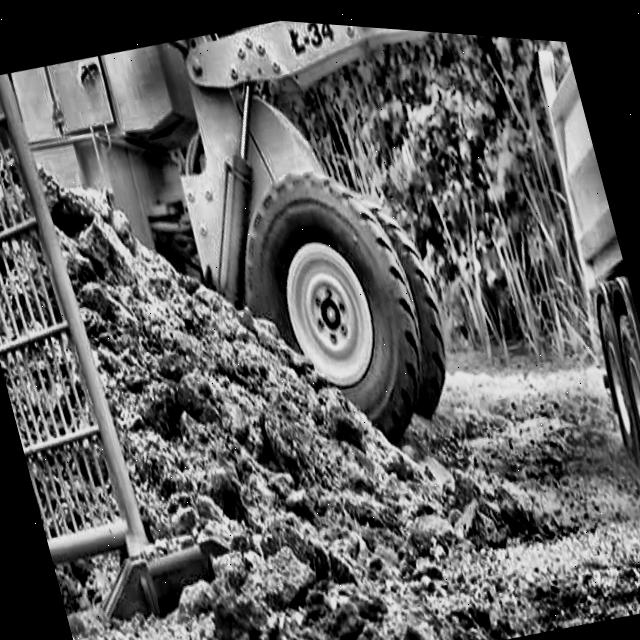buldozerpayloadergrader: (0, 0, 640, 558)
